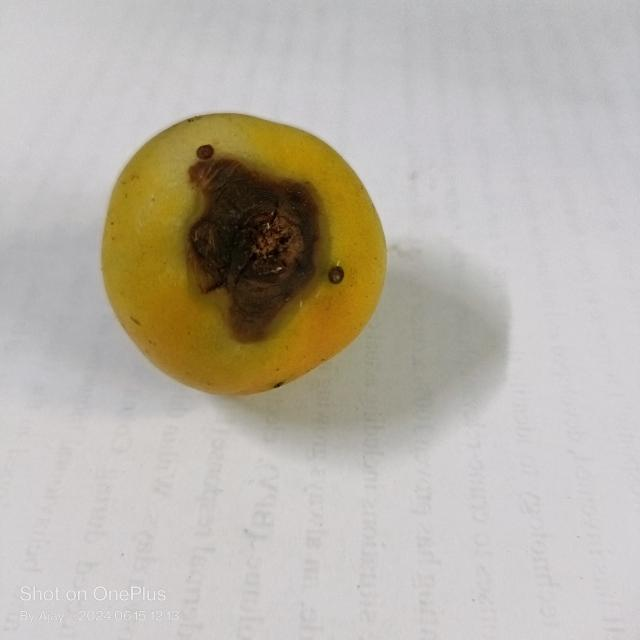Anthrocnose: (180, 142, 325, 349)
